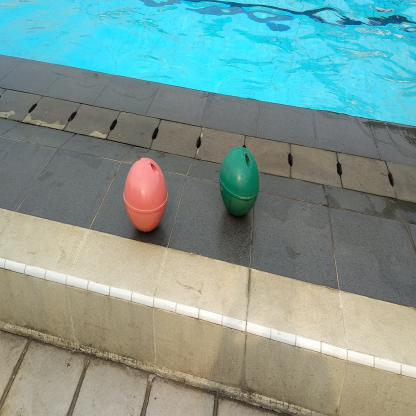green_buoy: (217, 143, 262, 224)
red_buoy: (122, 152, 172, 239)
